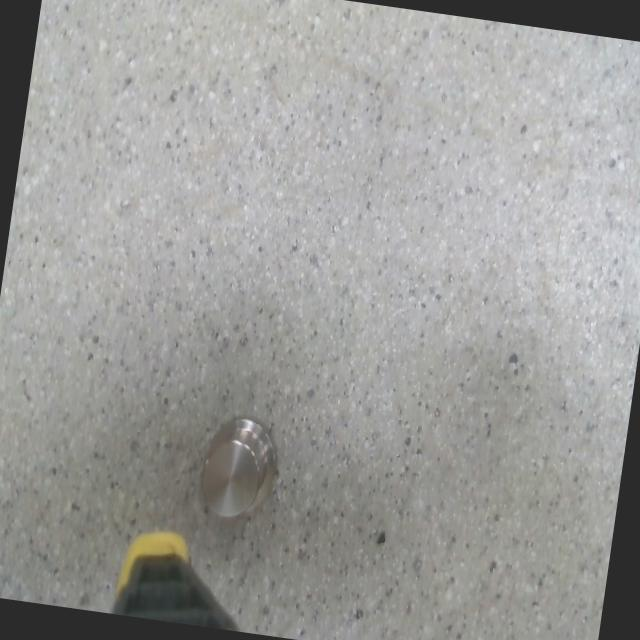sensor: (194, 411, 286, 526)
